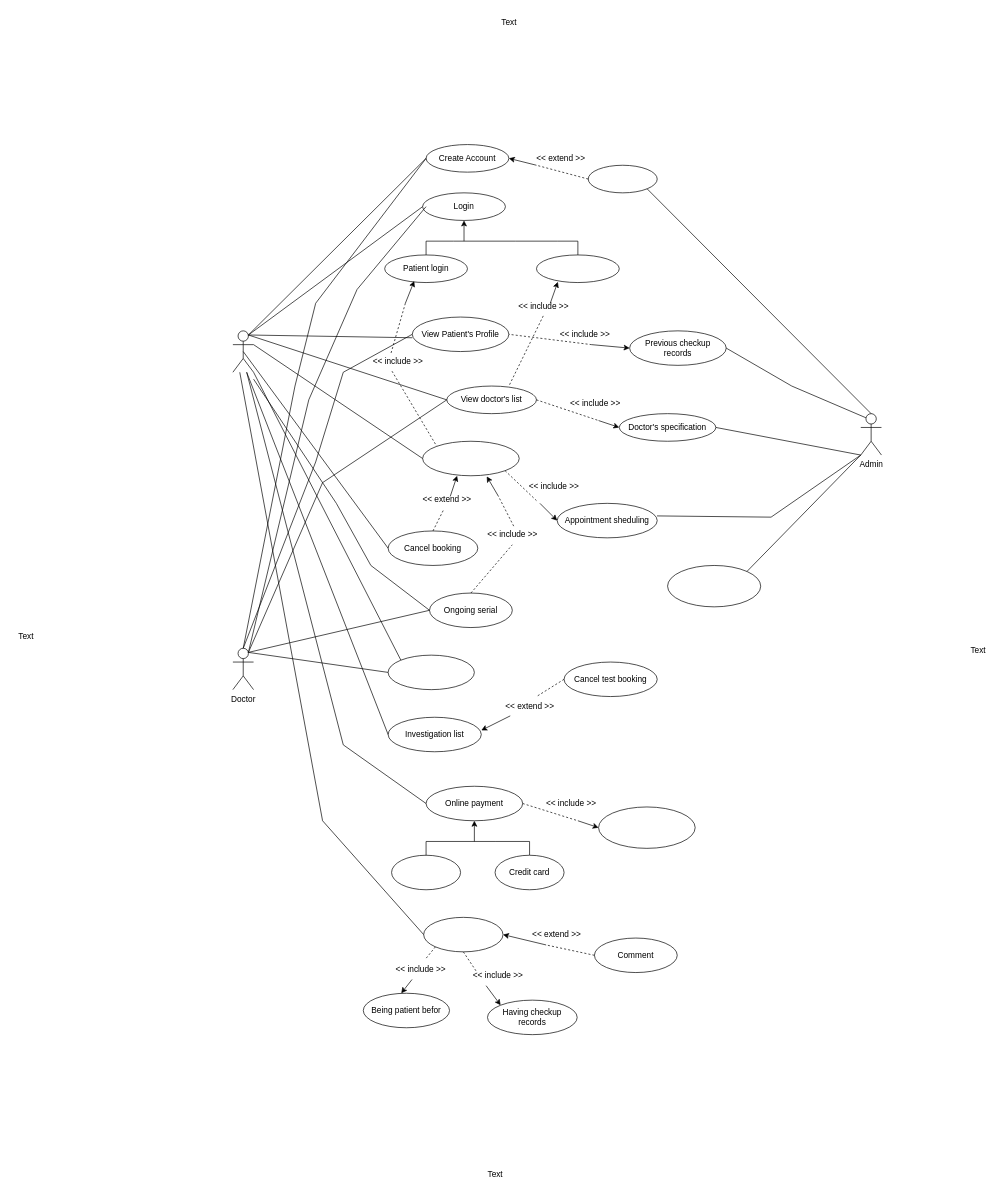
Image size: 1003x1196. Some labels were removed from this diagram. The shapes that lost their labels are listed below. From the top down, each one's centre as x and y in pixels, then its label:
At (x=622, y=179): "Need help".
At (x=577, y=268): "Doctor login".
At (x=243, y=351): "Patient".
At (x=470, y=458): "Booking appointment".
At (x=714, y=586): "Review management".
At (x=430, y=672): "Online report".
At (x=646, y=827): "Verify sufficient funds".
At (x=426, y=872): "Bkash".
At (x=463, y=934): "Give review".
